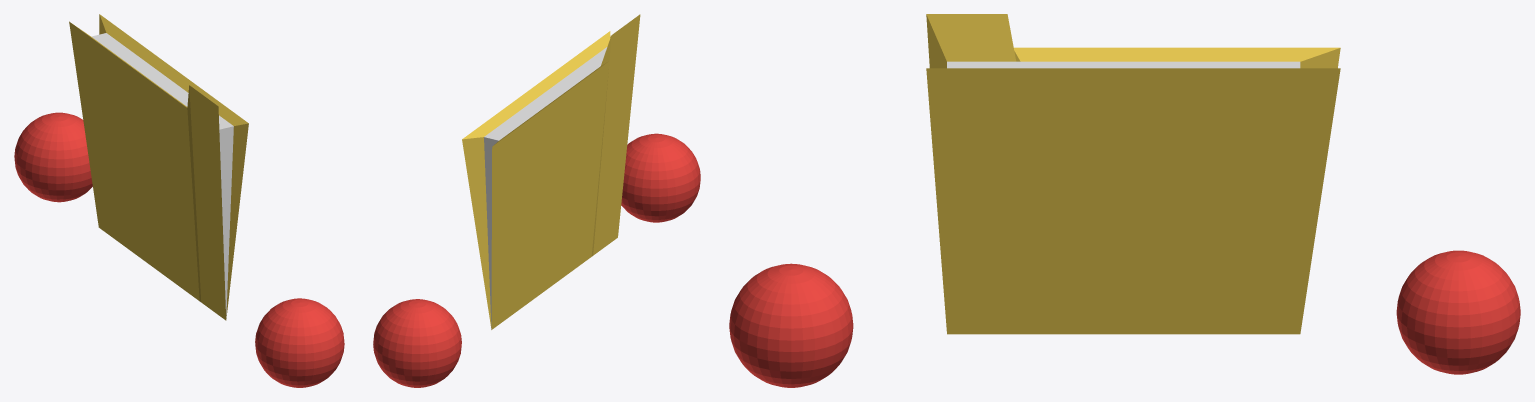
Rendered from Infected_folder.glb.
3 renders of one model, left to right at view 1: azimuth 30°, elevation 25°; view 2: azimuth 150°, elevation 25°; view 3: azimuth 270°, elevation 25°, orthographic. The views are drawn at different scales.
Visible parts, largest first — view 1: Куб, Сфера.001, Сфера; view 2: Куб, Сфера, Сфера.001; view 3: Куб, Сфера.001, Сфера.
Part boxes in pixels (x1,y1,x2,y2): Куб: [69, 14, 248, 320]; Сфера.001: [255, 298, 344, 387]; Сфера: [14, 112, 92, 202]; Куб: [462, 14, 640, 329]; Сфера: [373, 299, 461, 387]; Сфера.001: [621, 133, 700, 222]; Куб: [926, 14, 1340, 334]; Сфера.001: [729, 263, 853, 387]; Сфера: [1396, 250, 1520, 374].
Size of the model in its own units: 0.6 by 1.84 by 3.82.
